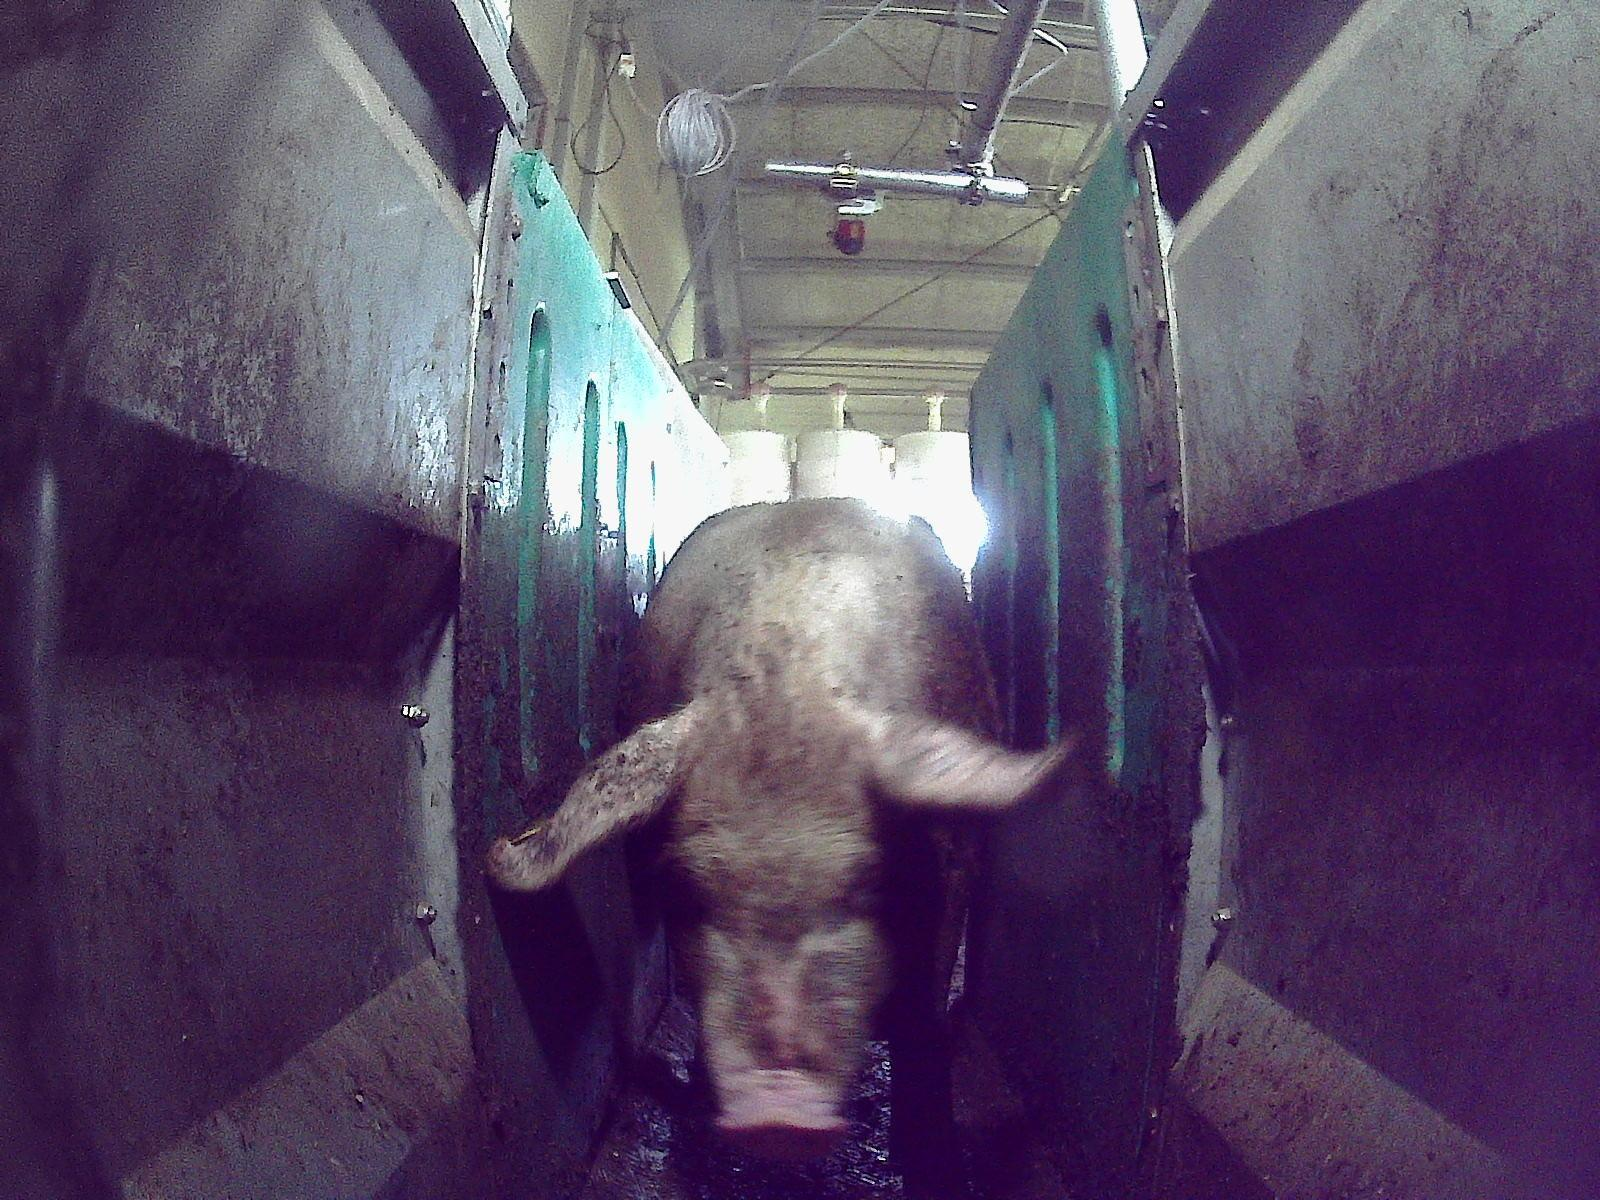Face: (665, 698, 912, 1159)
